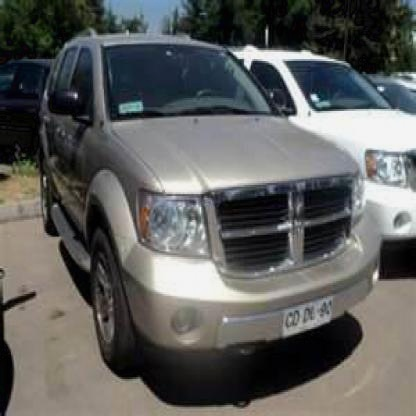Vehicle: (47, 26, 383, 384)
